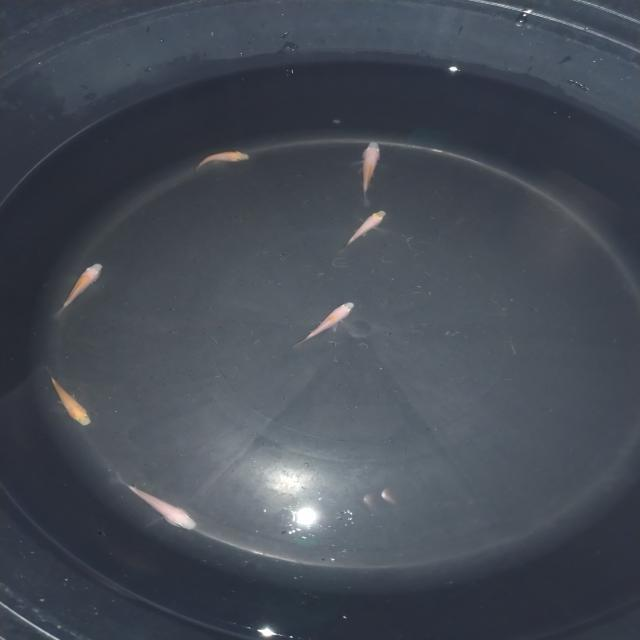nila: (116, 482, 200, 534), (50, 258, 106, 320), (44, 366, 95, 429), (294, 300, 359, 348), (349, 136, 386, 204), (340, 207, 392, 253), (193, 146, 254, 174)
